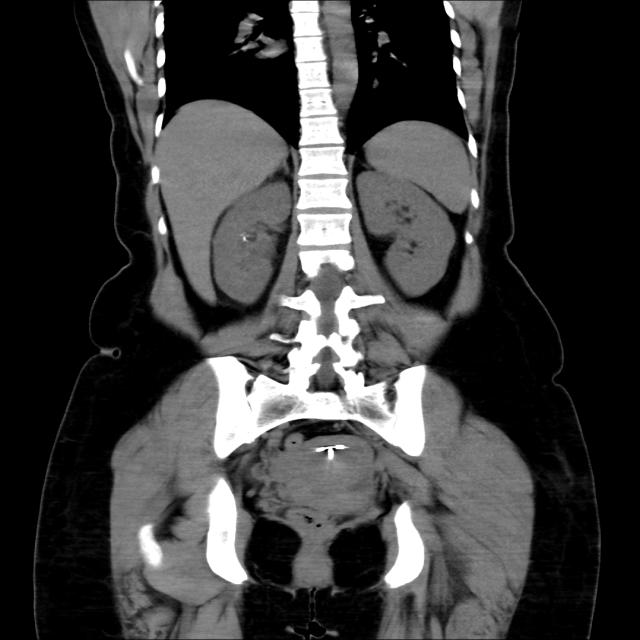kidneystone: (240, 231, 251, 242)
